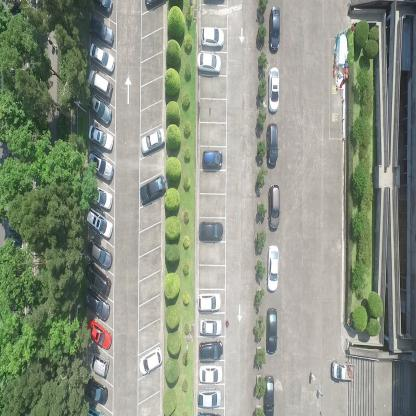car: (84, 259, 112, 297), (82, 286, 110, 322), (84, 206, 113, 240), (86, 90, 112, 127), (86, 149, 114, 183), (87, 14, 115, 47), (140, 172, 166, 207), (85, 318, 113, 350), (88, 41, 116, 72), (140, 125, 166, 158), (86, 236, 112, 269), (85, 181, 113, 211), (86, 124, 115, 151), (87, 69, 113, 99), (139, 344, 163, 376), (82, 375, 108, 404), (87, 349, 110, 379), (266, 244, 279, 294), (265, 305, 278, 355), (330, 359, 356, 384), (267, 183, 280, 232), (198, 338, 223, 363), (196, 50, 221, 75), (197, 219, 224, 242), (266, 121, 279, 168), (200, 25, 225, 49), (197, 386, 223, 408), (198, 363, 224, 385), (268, 66, 279, 114), (197, 290, 221, 312), (269, 6, 280, 52), (201, 147, 223, 170), (262, 374, 274, 415), (199, 316, 222, 337), (90, 0, 113, 15)
